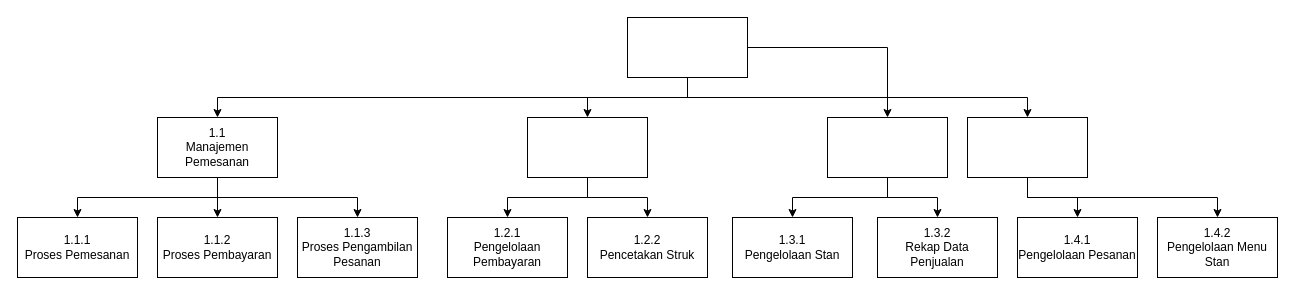
This 1295x295 diagram has some shape labels left out. The shapes that lost their labels are listed below. From the top down, each one's centre as x and y in pixels, then its label:
(687,47): 1.0 Sistem Informasi Kasir Pujasera
(587,147): 1.2 Manajemen Kasir Terpusat
(887,147): 1.3 Manajemen Administrator
(1027,147): 1.4 Manajemen Pihak Stan
